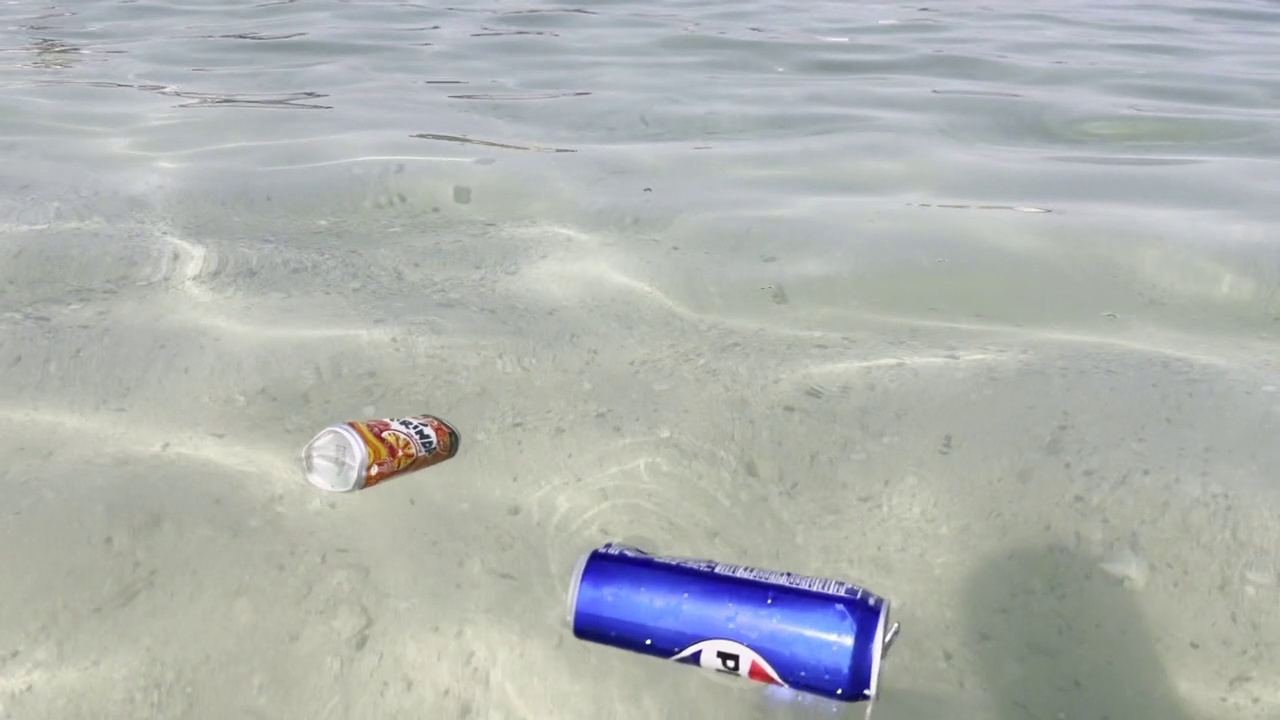debris: (558, 534, 907, 717), (300, 397, 463, 506)
